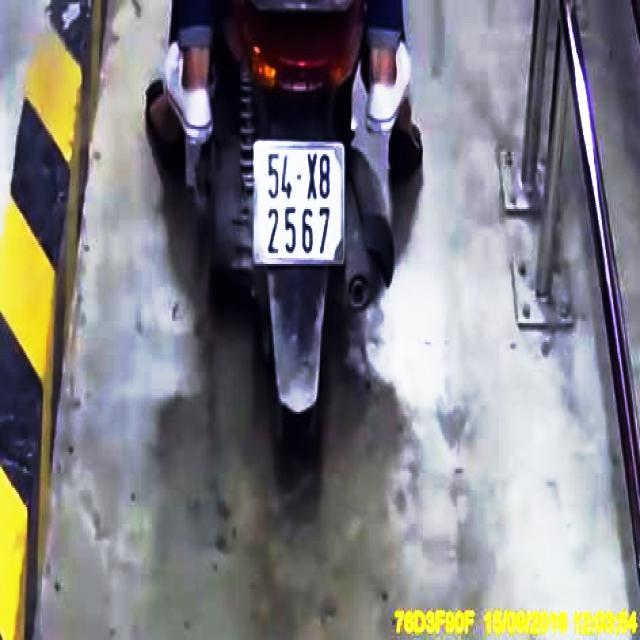license_plate: (255, 142, 345, 265)
